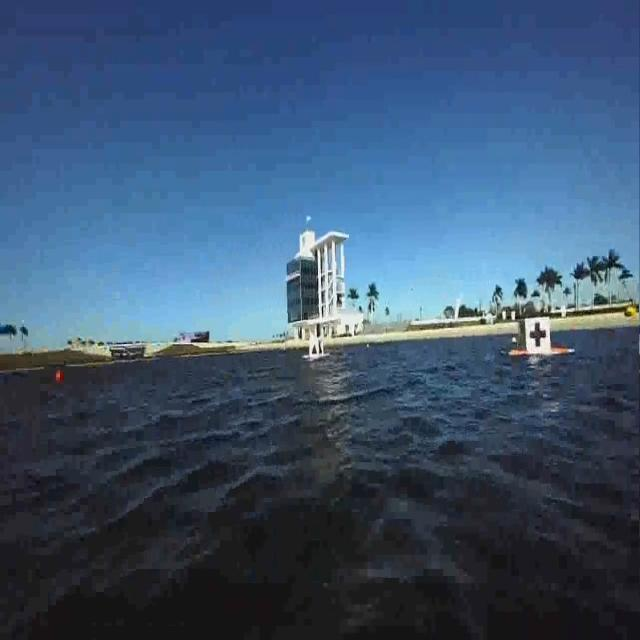red-buoy: (53, 367, 64, 388)
